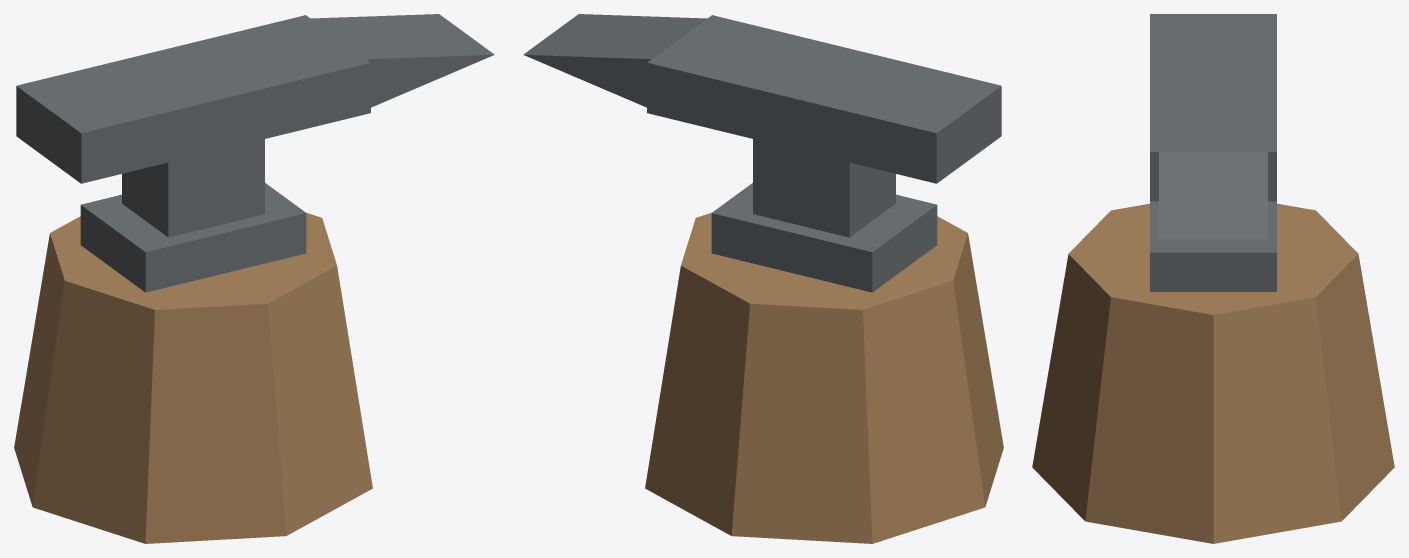
The model's file is anvil-stump.glb.
3 renders of one model, left to right at view 1: azimuth 30°, elevation 25°; view 2: azimuth 150°, elevation 25°; view 3: azimuth 270°, elevation 25°, orthographic. The views are drawn at different scales.
Visible parts, largest first — view 1: anvil-stump; view 2: anvil-stump; view 3: anvil-stump.
Boxes of the visible parts, left/top/right/bottom form: anvil-stump: left=14, top=14, right=494, bottom=543; anvil-stump: left=523, top=14, right=1003, bottom=543; anvil-stump: left=1032, top=14, right=1394, bottom=543.
Size of the model in its own units: 1.35 by 1.17 by 1.
